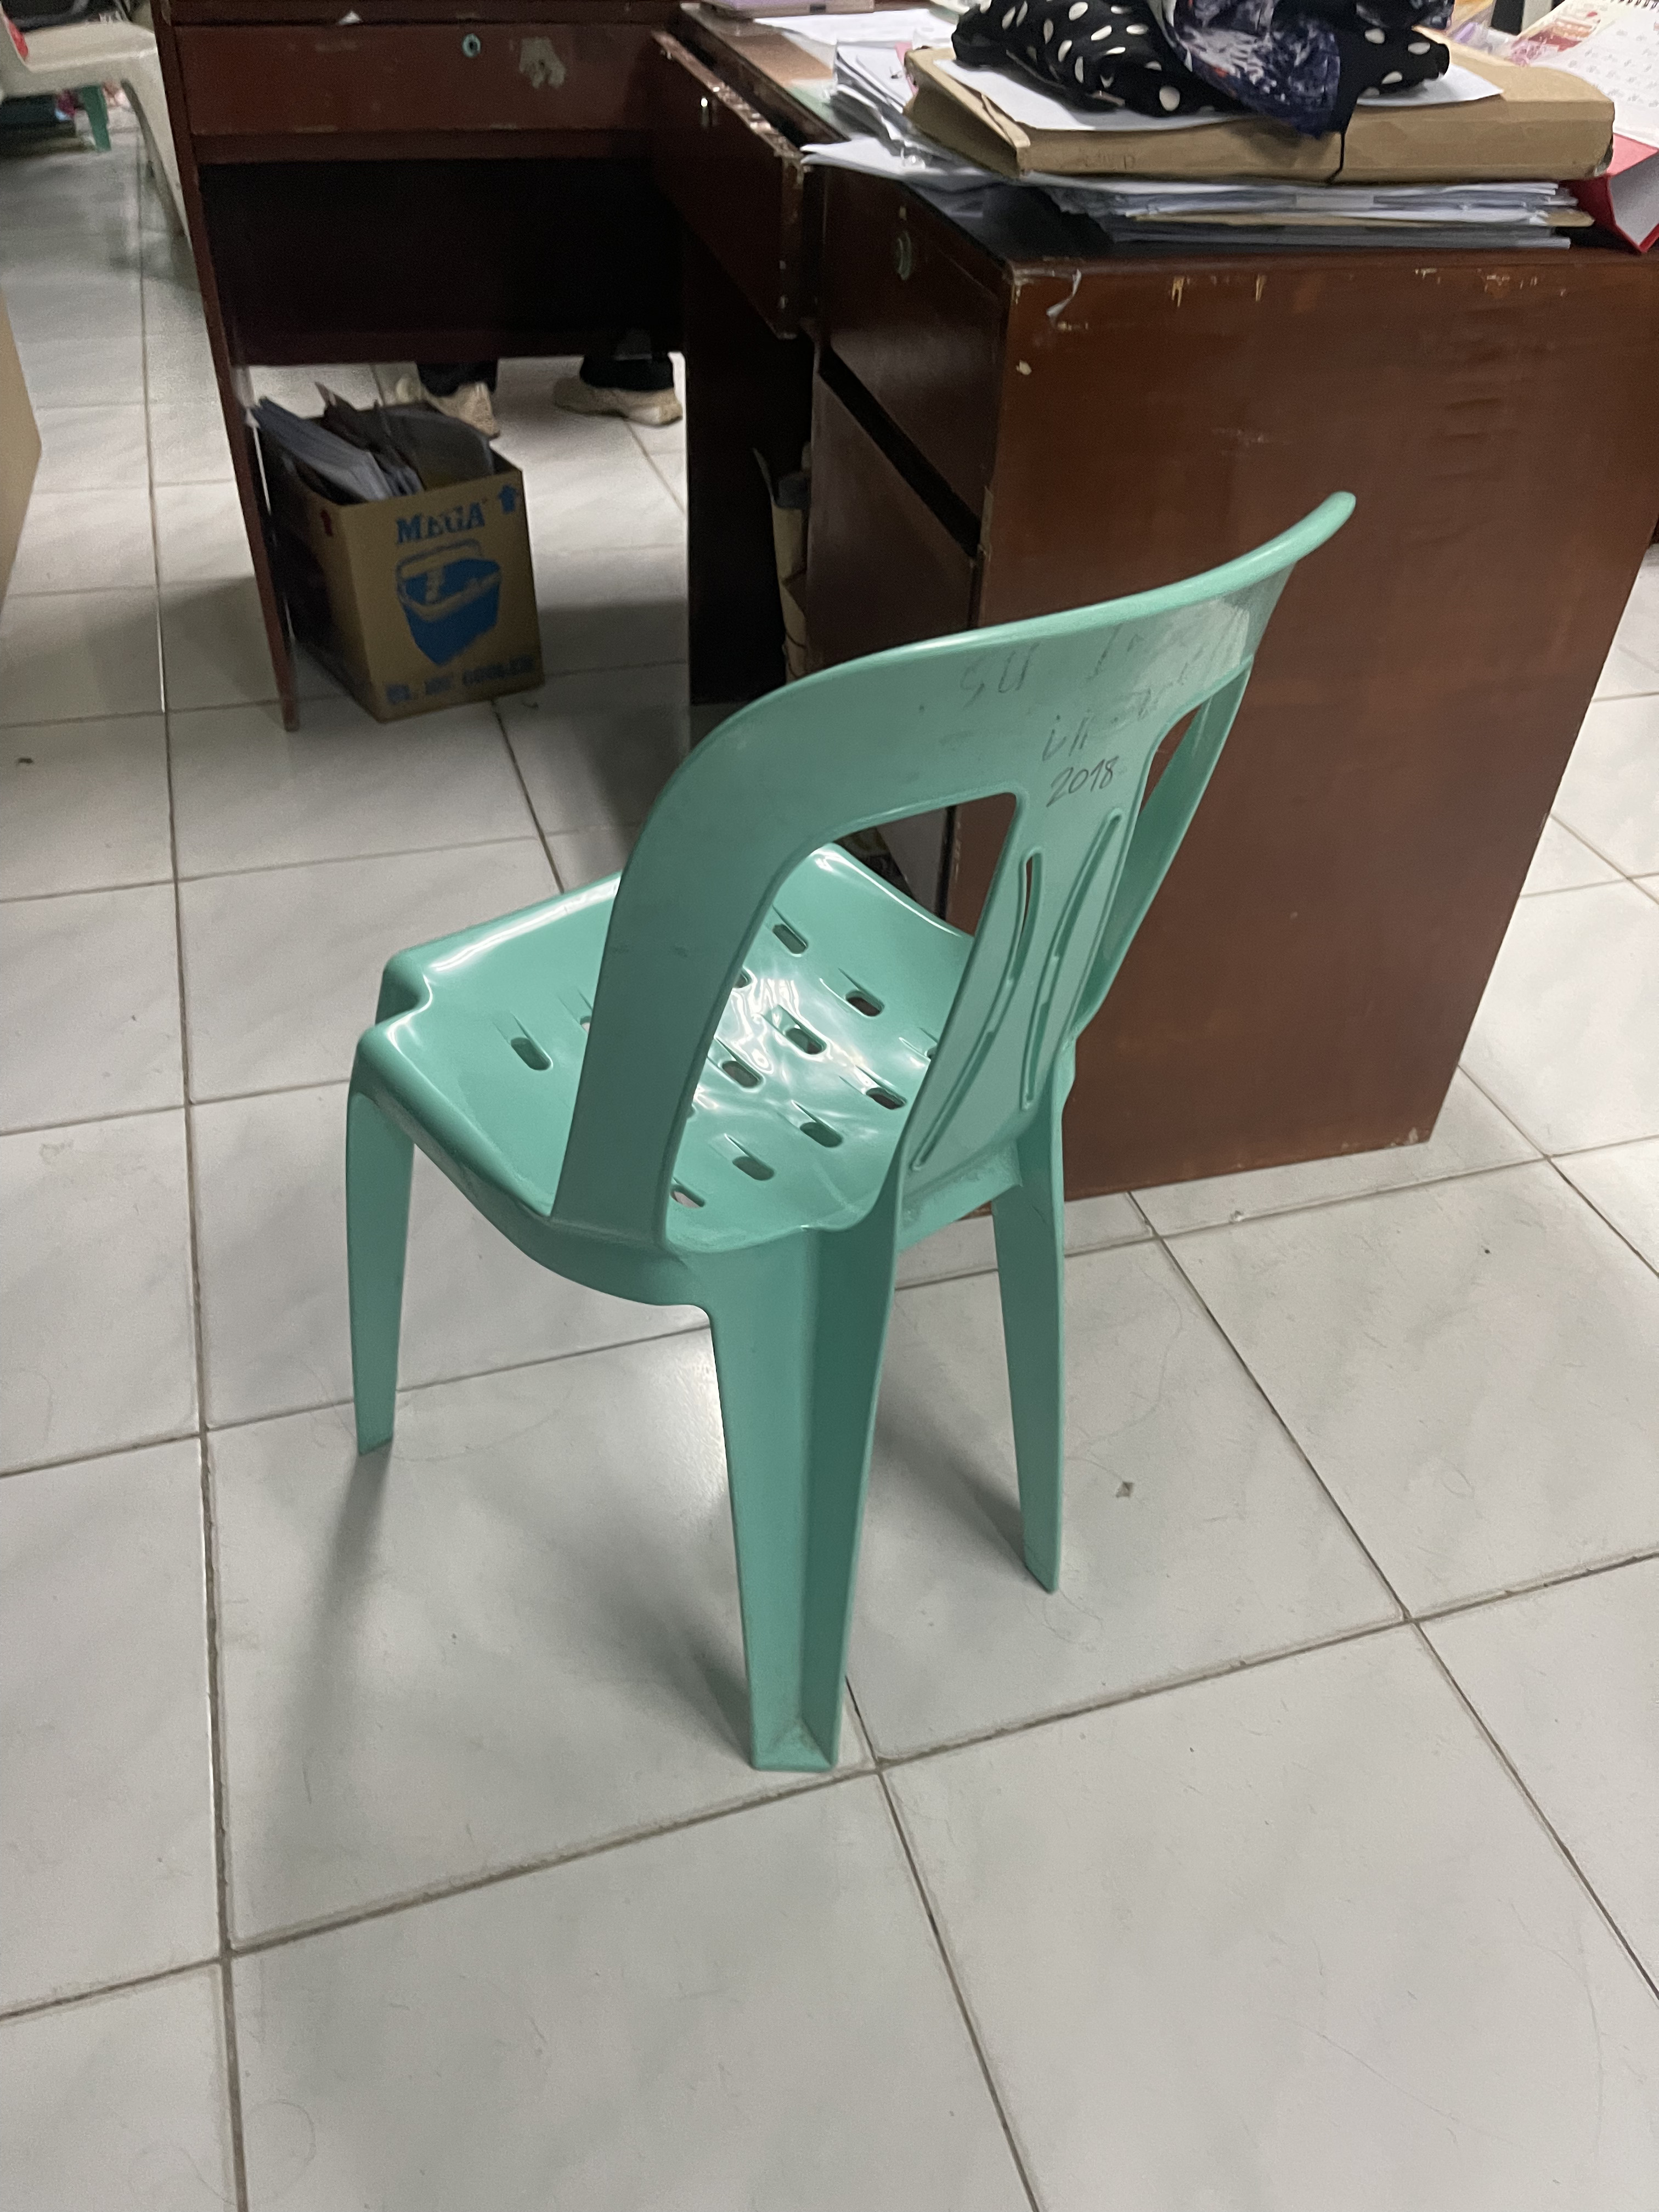chair2: (300, 474, 1373, 1810)
